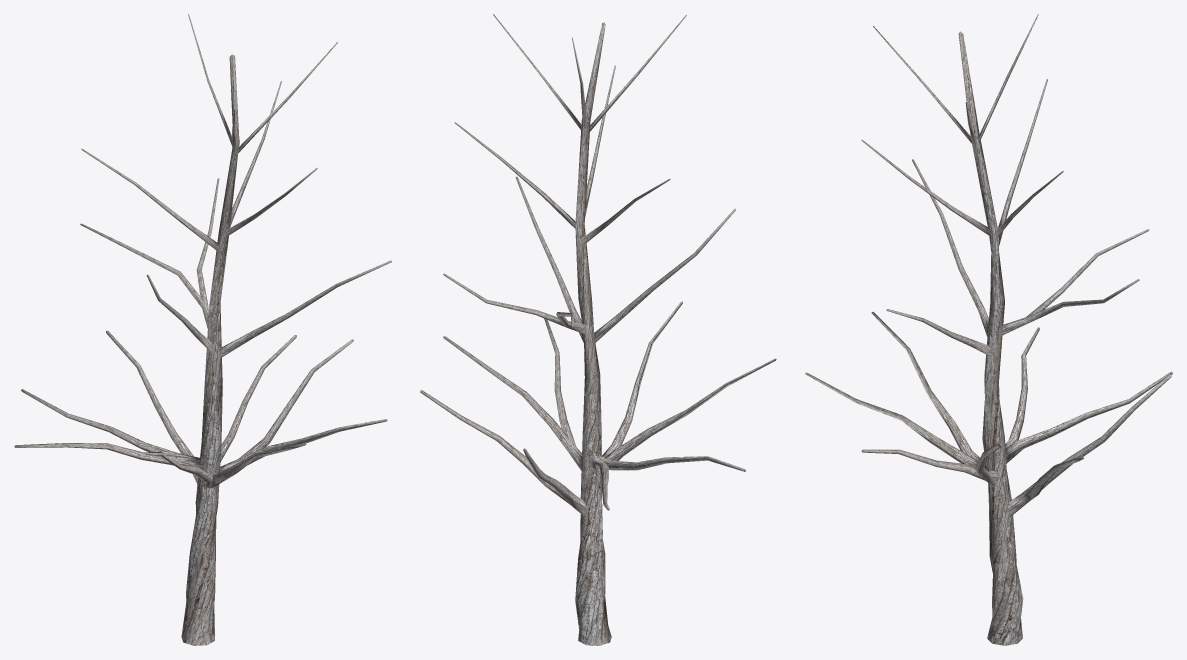
Rendered from trunk.glb.
3 renders of one model, left to right at view 1: azimuth 30°, elevation 25°; view 2: azimuth 150°, elevation 25°; view 3: azimuth 270°, elevation 25°, orthographic. The views are drawn at different scales.
Visible parts, largest first — view 1: trunk; view 2: trunk; view 3: trunk.
Part boxes in pixels (x1,y1,x2,y2): trunk: [14, 14, 391, 645]; trunk: [420, 14, 776, 645]; trunk: [805, 14, 1172, 645].
Size of what is drawn, in the model's own units: 14.28 by 26 by 13.81.
1 material, 1 textured.
